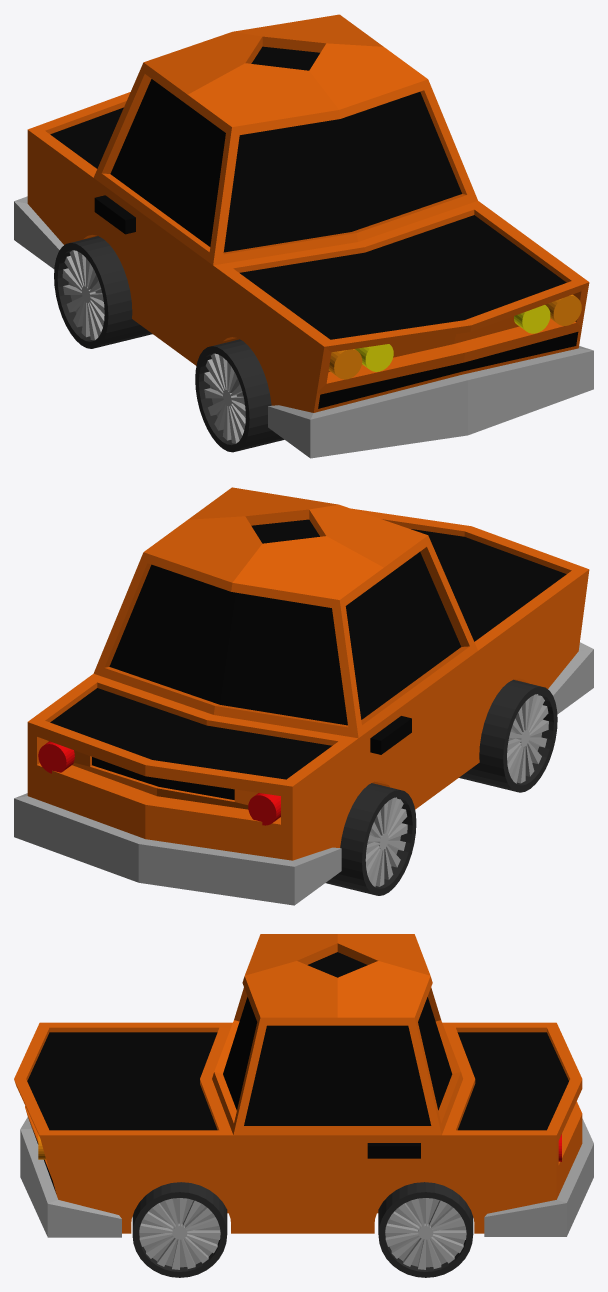
Rendered from Low Poly Car 1.fbx.
3 views of the same model, one above another, from view 1: azimuth 30°, elevation 25°; view 2: azimuth 150°, elevation 25°; view 3: azimuth 270°, elevation 25° (orthographic). The views are drawn at different scales.
Visible parts, largest first — view 1: Cube, Cylinder.006, Cylinder.007, Cube.001, Cylinder.003, Cylinder.002, Cylinder, Cylinder.001; view 2: Cube, Cylinder.007, Cylinder.006, Cube.001, Cylinder.005, Cylinder.004; view 3: Cube, Cylinder.008, Cylinder.009, Cube.002.
Boxes of the visible parts, bbox=[...] form: Cube: bbox=[14, 14, 593, 458]; Cylinder.006: bbox=[54, 236, 152, 348]; Cylinder.007: bbox=[195, 339, 284, 452]; Cube.001: bbox=[94, 195, 135, 234]; Cylinder.003: bbox=[328, 349, 362, 379]; Cylinder.002: bbox=[545, 294, 581, 325]; Cylinder: bbox=[355, 344, 393, 371]; Cylinder.001: bbox=[514, 305, 550, 333]; Cube: bbox=[14, 487, 593, 905]; Cylinder.007: bbox=[459, 679, 557, 792]; Cylinder.006: bbox=[326, 783, 416, 895]; Cube.001: bbox=[370, 716, 411, 754]; Cylinder.005: bbox=[38, 741, 74, 773]; Cylinder.004: bbox=[248, 793, 280, 825]; Cube: bbox=[14, 934, 593, 1237]; Cylinder.008: bbox=[132, 1182, 227, 1277]; Cylinder.009: bbox=[378, 1182, 473, 1277]; Cube.002: bbox=[367, 1143, 420, 1158].
Bounding box in the file's own units: 563 × 517 × 1070.
